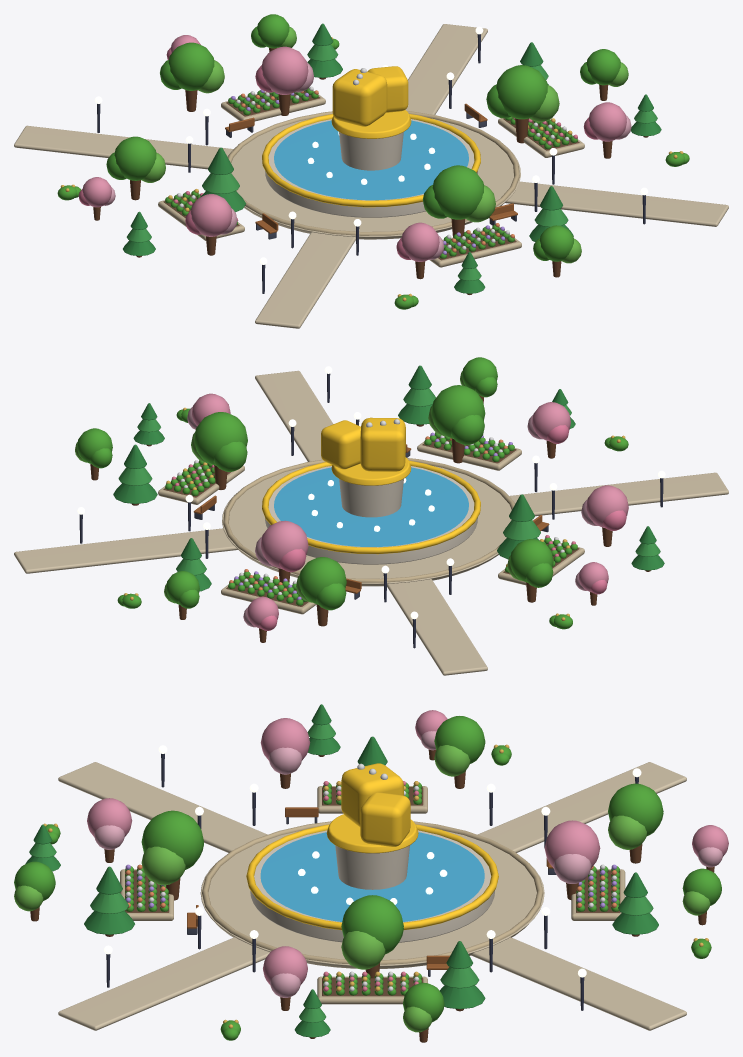
The model's file is centre.glb.
3 renders of one model, top to bottom at view 1: azimuth 30°, elevation 25°; view 2: azimuth 150°, elevation 25°; view 3: azimuth 270°, elevation 25°, orthographic. The views are drawn at different scales.
Visible parts, largest first — view 1: Cone; view 2: Cone; view 3: Cone.
Boxes of the visible parts, bbox=[...] form: Cone: bbox=[14, 14, 728, 328]; Cone: bbox=[14, 357, 728, 675]; Cone: bbox=[14, 704, 728, 1042].
Bounding box in the file's own units: 5.6 × 1.07 × 5.55.
